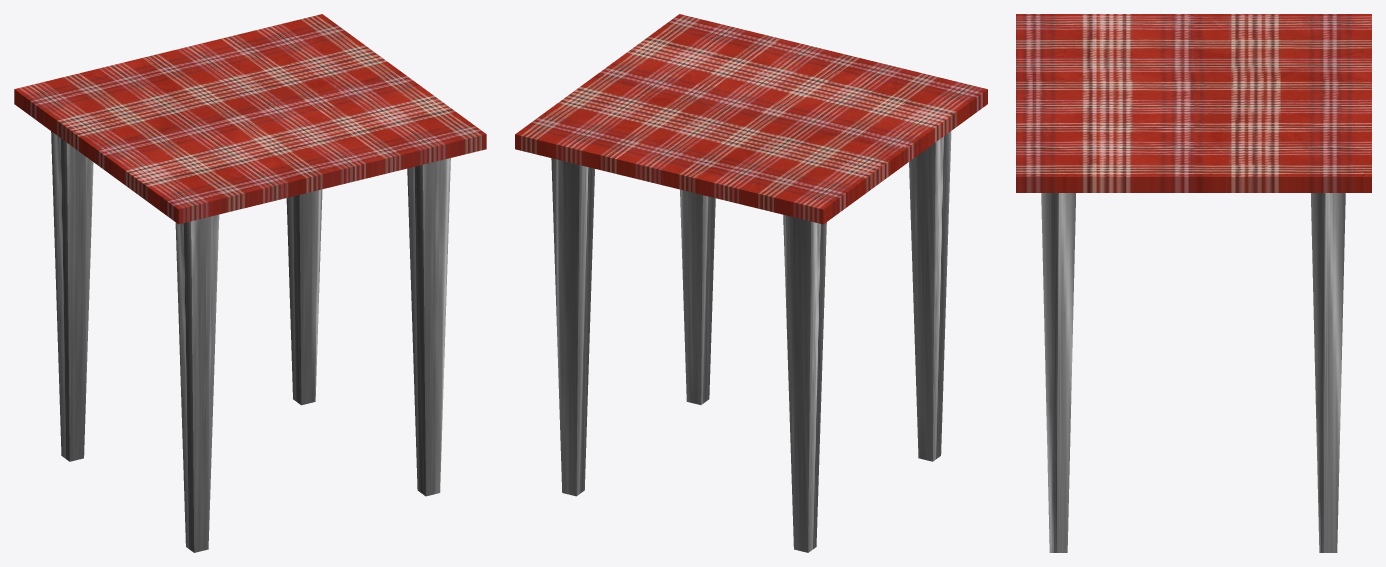
The model's file is table lunch small.FBX.
The picture shows the model from 3 angles, left to right: view 1: azimuth 30°, elevation 25°; view 2: azimuth 150°, elevation 25°; view 3: azimuth 270°, elevation 25°; orthographic projection. The views are drawn at different scales.
Parts seen in each view (by area): view 1: tableLunch; view 2: tableLunch; view 3: tableLunch.
Part boxes in pixels (box(x1,y1,x2,y2)): tableLunch: box(14, 14, 486, 552); tableLunch: box(515, 14, 987, 552); tableLunch: box(1016, 14, 1371, 552).
Size of the model in its own units: 64.95 by 73 by 60.
Materials: 2 (2 with a texture image).
